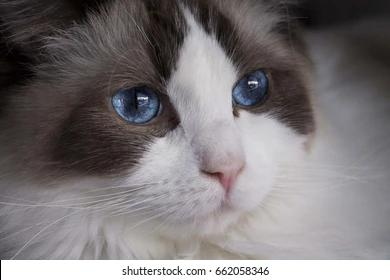ragdoll: (53, 1, 317, 248)
